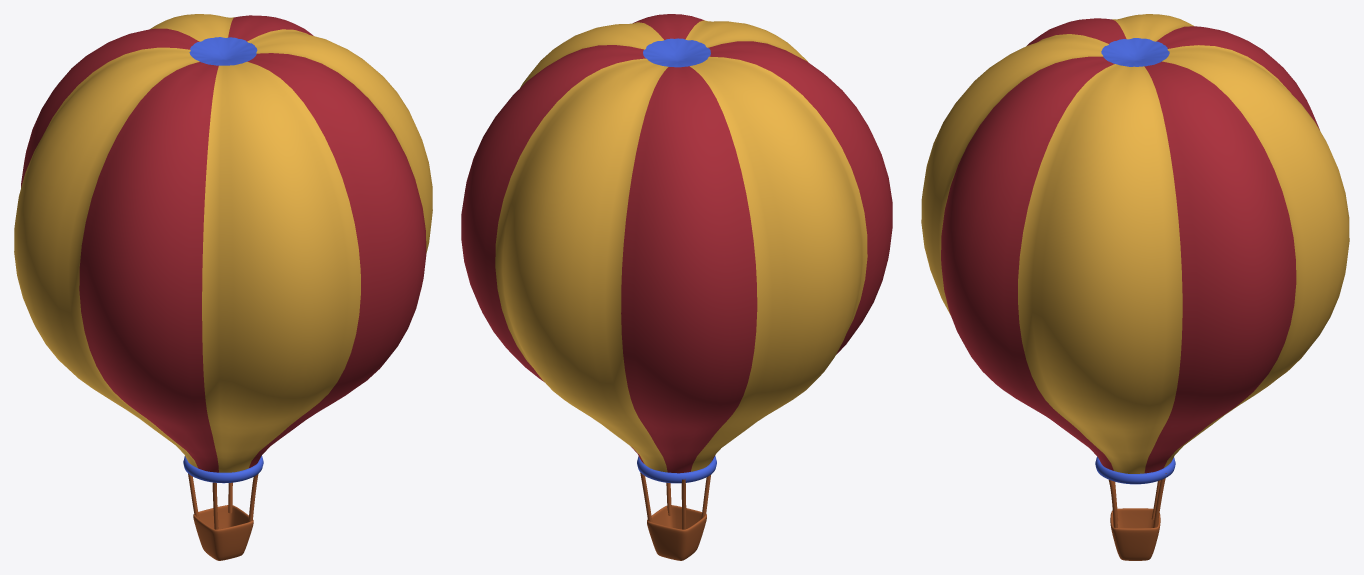
The model's file is Balloon03.fbx.
3 renders of one model, left to right at view 1: azimuth 30°, elevation 25°; view 2: azimuth 150°, elevation 25°; view 3: azimuth 270°, elevation 25°, orthographic.
Parts seen in each view (by area): view 1: Sphere.003; view 2: Sphere.003; view 3: Sphere.003.
Boxes of the visible parts, x1,y1,x2,y2 form: Sphere.003: [14, 14, 432, 560]; Sphere.003: [461, 14, 892, 560]; Sphere.003: [921, 14, 1349, 560].
Bounding box in the file's own units: 398 × 519 × 398.
